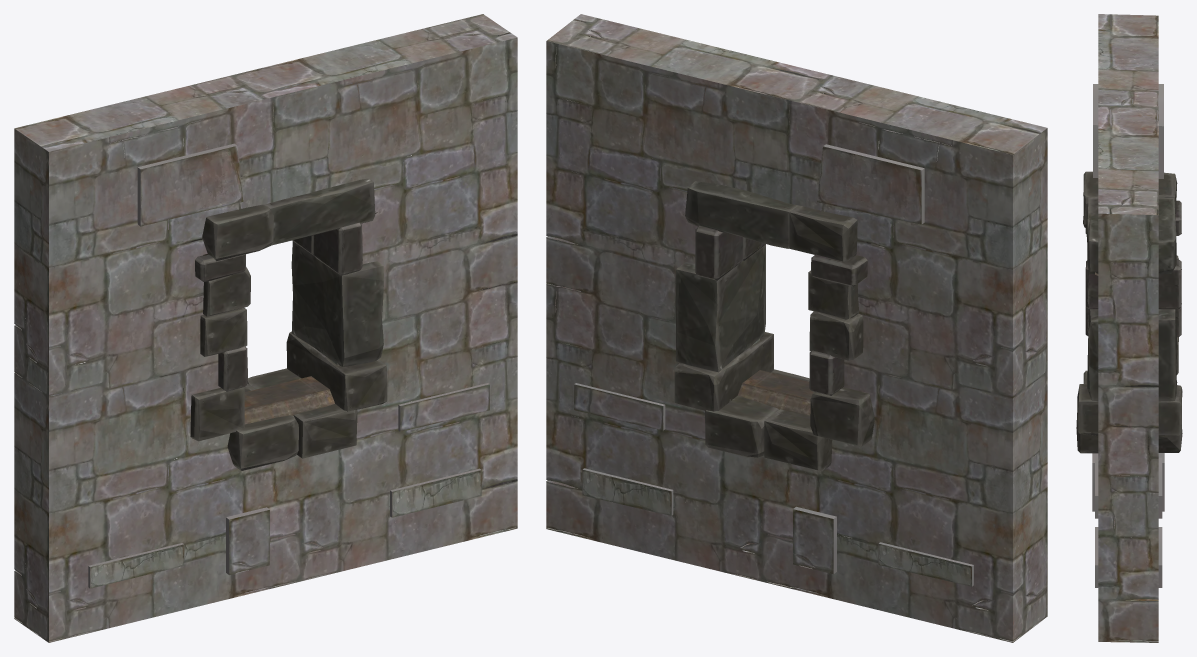
The picture shows the model from 3 angles, left to right: view 1: azimuth 30°, elevation 25°; view 2: azimuth 150°, elevation 25°; view 3: azimuth 270°, elevation 25°; orthographic projection. The views are drawn at different scales.
Visible parts, largest first — view 1: SM_BB_T3_Extended_Wall_Windowframe_Large_02_LOD0; view 2: SM_BB_T3_Extended_Wall_Windowframe_Large_02_LOD0; view 3: SM_BB_T3_Extended_Wall_Windowframe_Large_02_LOD0.
Boxes of the visible parts, x1=… form: SM_BB_T3_Extended_Wall_Windowframe_Large_02_LOD0: x1=14, y1=14, x2=517, y2=642; SM_BB_T3_Extended_Wall_Windowframe_Large_02_LOD0: x1=546, y1=14, x2=1047, y2=642; SM_BB_T3_Extended_Wall_Windowframe_Large_02_LOD0: x1=1076, y1=14, x2=1182, y2=642.
Bounding box in the file's own units: 3 × 3.01 × 0.6737.
Materials: 3 (3 with a texture image).
